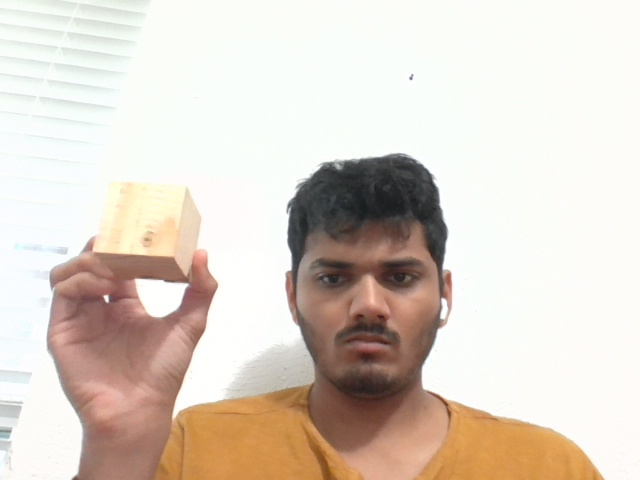NormalBlock: (94, 179, 201, 282)
